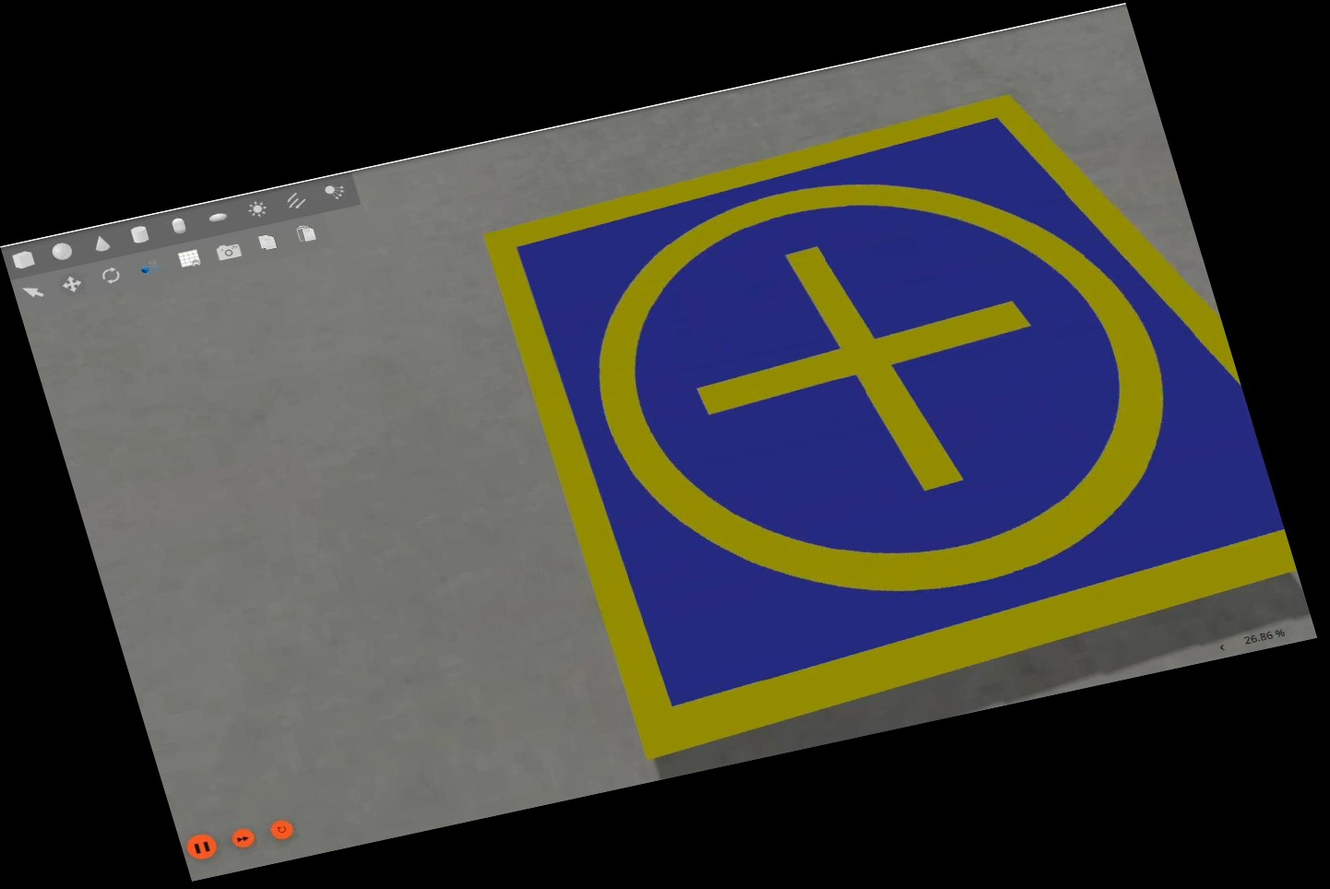small_base: (480, 65, 1310, 760)
